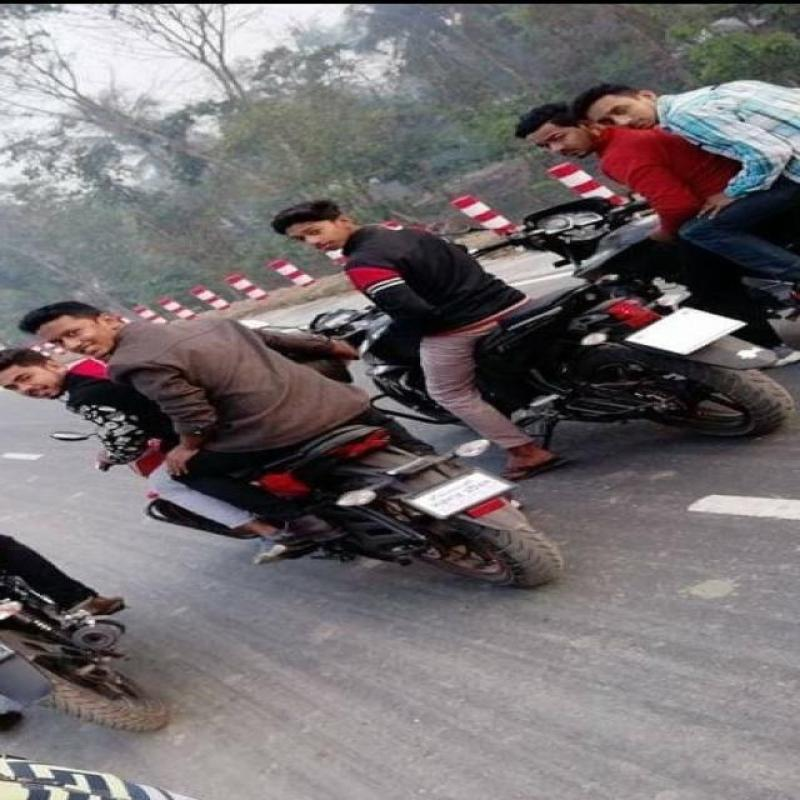nohelmet: (254, 195, 384, 255), (21, 295, 134, 363), (572, 90, 662, 136)
